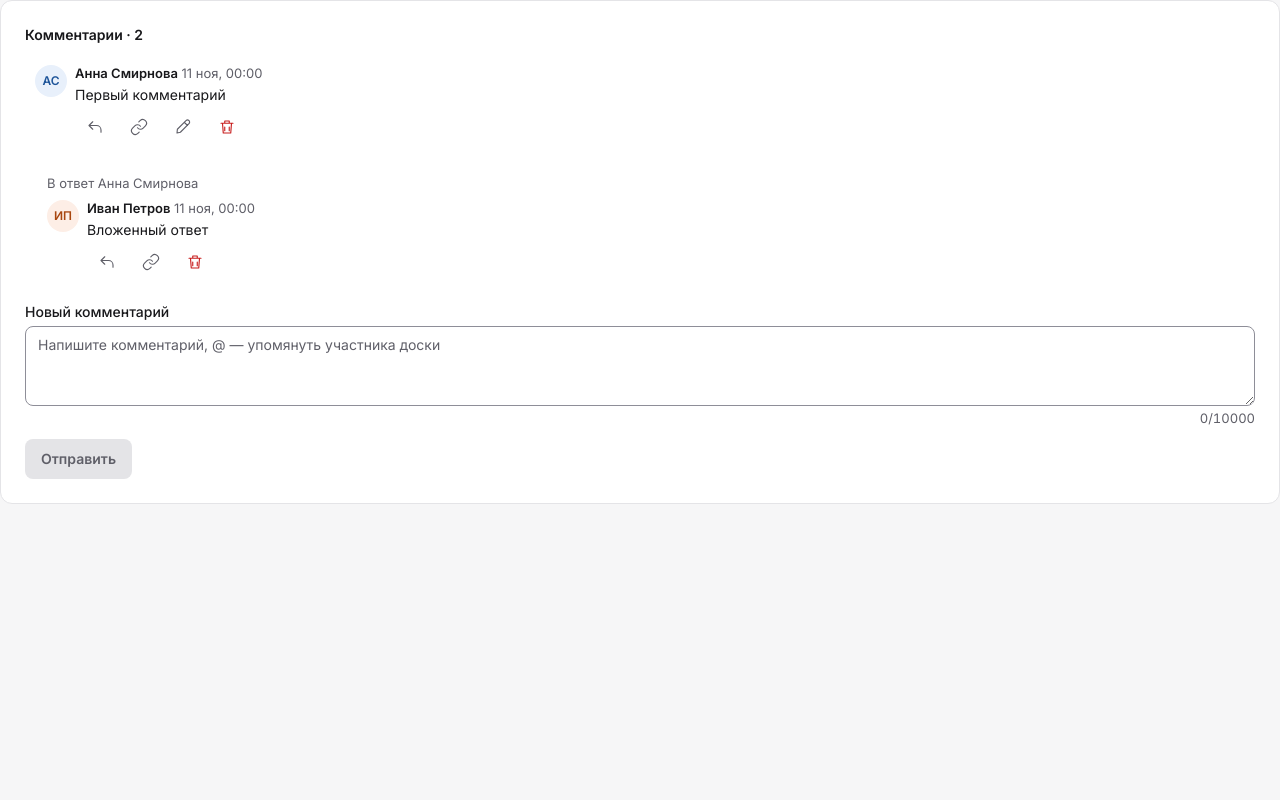
Test: TaskCommentsCard › ошибка не теряет текст ответа, отмена закрывает форму
Click the button named "Ответить" below "Первый комментарий" at (95, 127), box [75, 107, 115, 147]
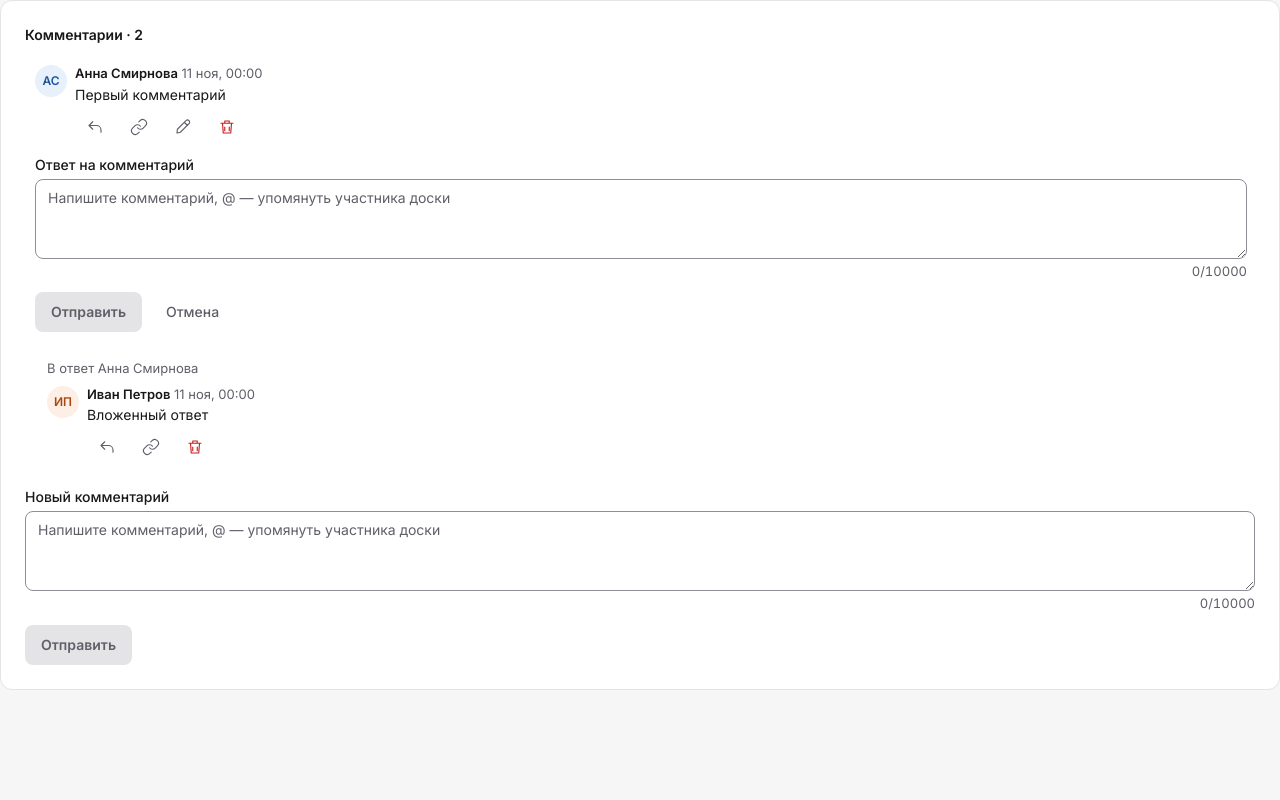
Type "Мой ответ" into the text box labelled "Ответ на комментарий" at (641, 219), box [35, 179, 1247, 259]
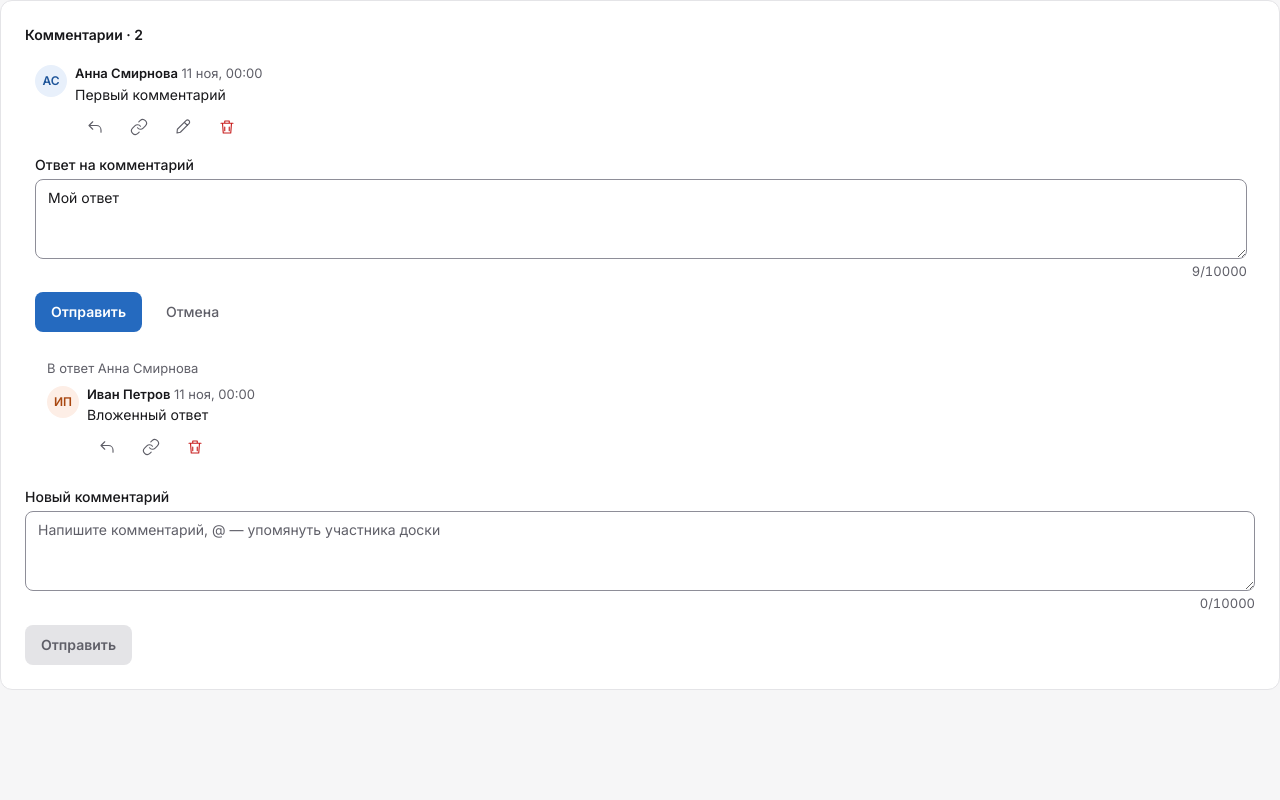
Click the button "Отправить" below "Ответ на комментарий" at (88, 312), box [35, 292, 142, 332]
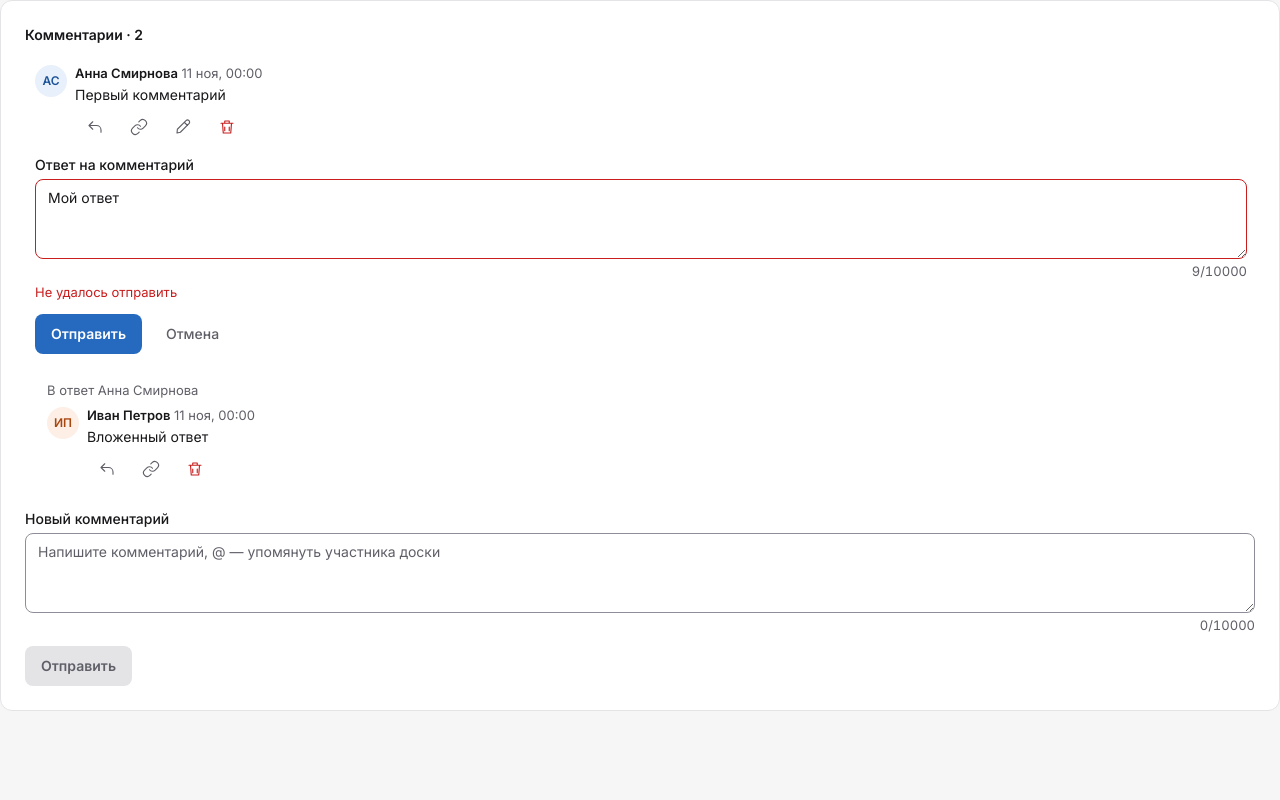
Check: the text "Не удалось отправить" is shown, box [35, 284, 177, 300]
Click the button "Отмена" at (193, 334), box [150, 314, 235, 354]
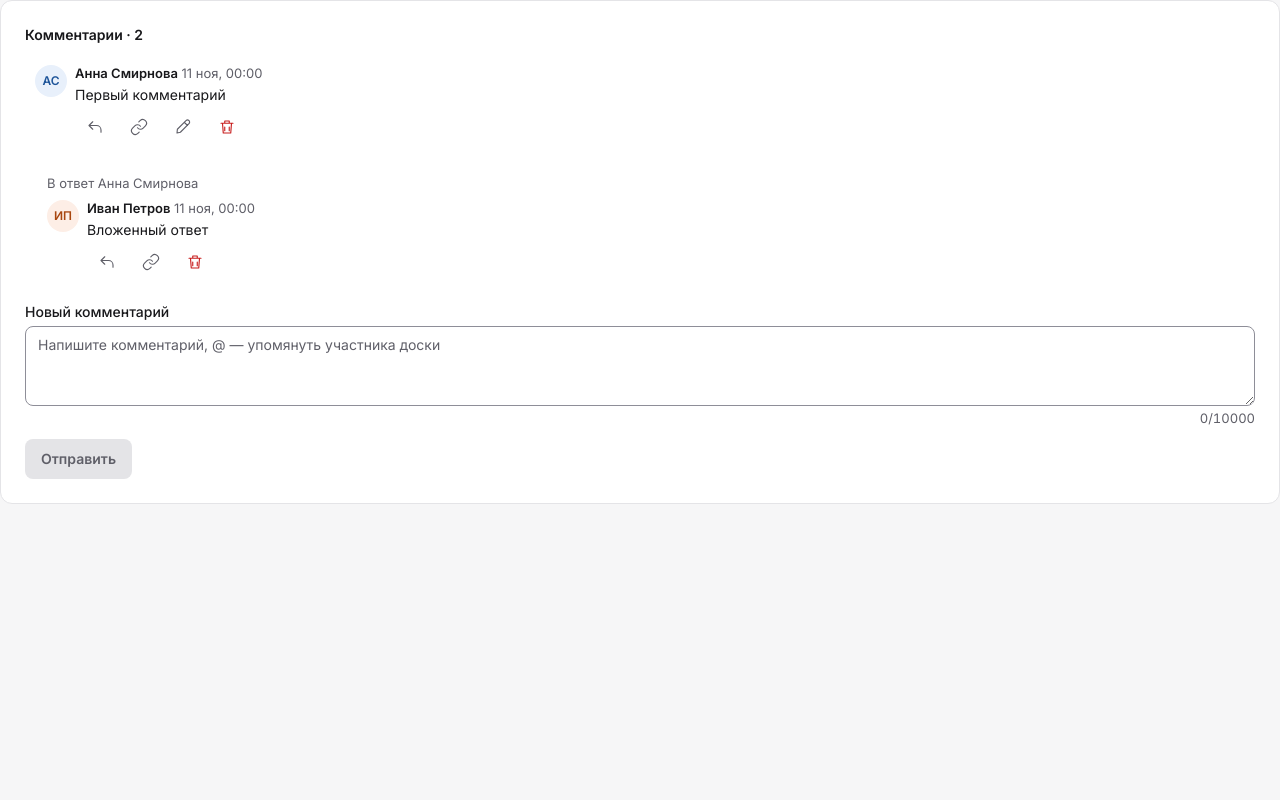
Check: the label labelled "Ответ на комментарий" is gone
